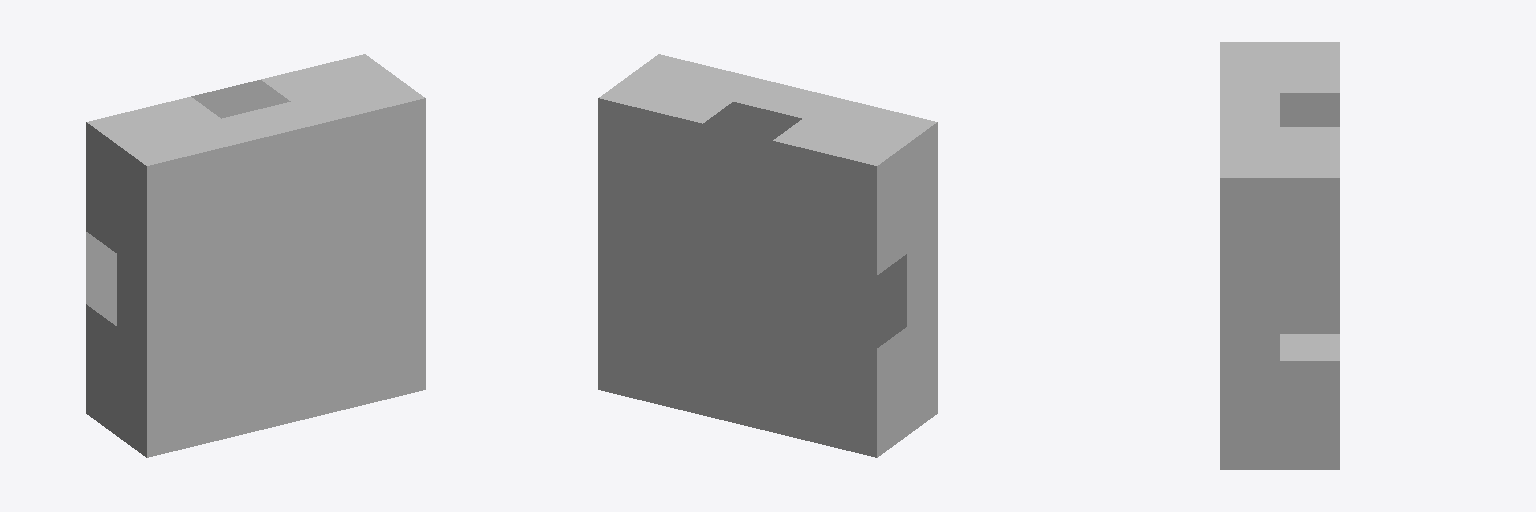
3 views of the same model, side by side, from view 1: azimuth 30°, elevation 25°; view 2: azimuth 150°, elevation 25°; view 3: azimuth 270°, elevation 25° (orthographic).
Visible parts, largest first — view 1: RoomBox_Plane; view 2: RoomBox_Plane; view 3: RoomBox_Plane.
Boxes of the visible parts, x1=… form: RoomBox_Plane: x1=86, y1=54, x2=425, y2=457; RoomBox_Plane: x1=598, y1=54, x2=937, y2=457; RoomBox_Plane: x1=1220, y1=42, x2=1339, y2=469.
Size of the model in its own units: 16 by 16 by 6.